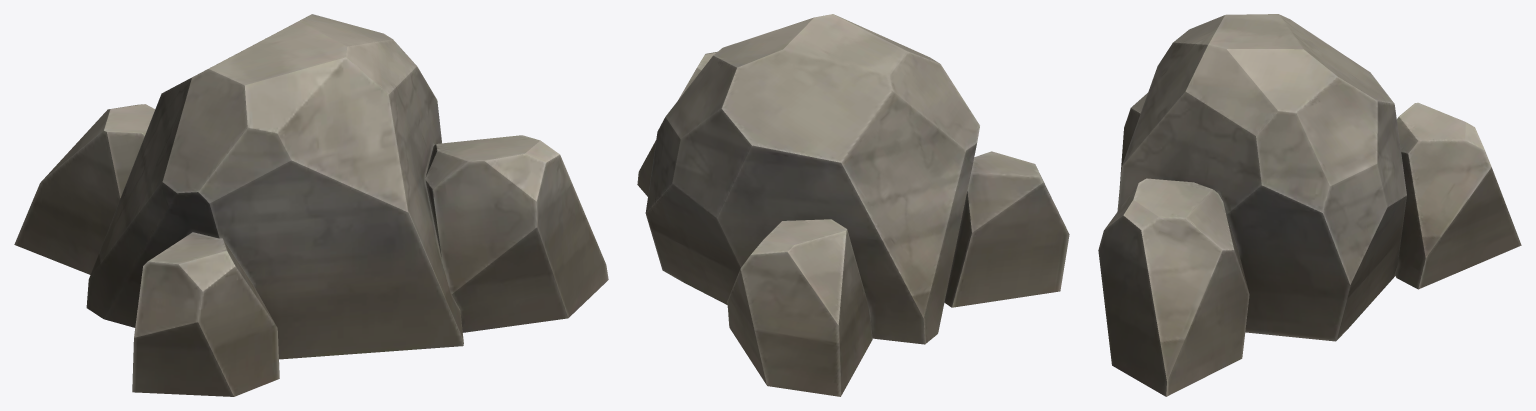
File: rock_granite_medium.glb
3 views of the same model, side by side, from view 1: azimuth 30°, elevation 25°; view 2: azimuth 150°, elevation 25°; view 3: azimuth 270°, elevation 25° (orthographic). The views are drawn at different scales.
Parts seen in each view (by area): view 1: Static_Mesh; view 2: Static_Mesh; view 3: Static_Mesh.
Boxes of the visible parts, box(x1,y1,x2,y2) form: Static_Mesh: box(14, 14, 608, 396); Static_Mesh: box(637, 14, 1069, 396); Static_Mesh: box(1098, 14, 1521, 396).
Size of the model in its own units: 1.77 by 0.9395 by 1.47.
1 material, 1 textured.
